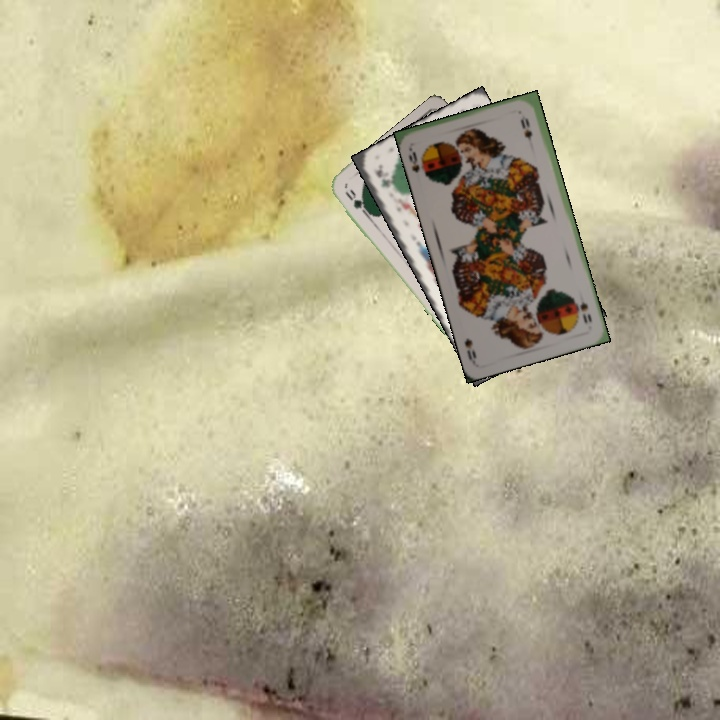GK: (371, 160, 392, 191)
GO: (341, 185, 372, 219)
SO: (404, 143, 431, 180), (576, 298, 594, 326)
